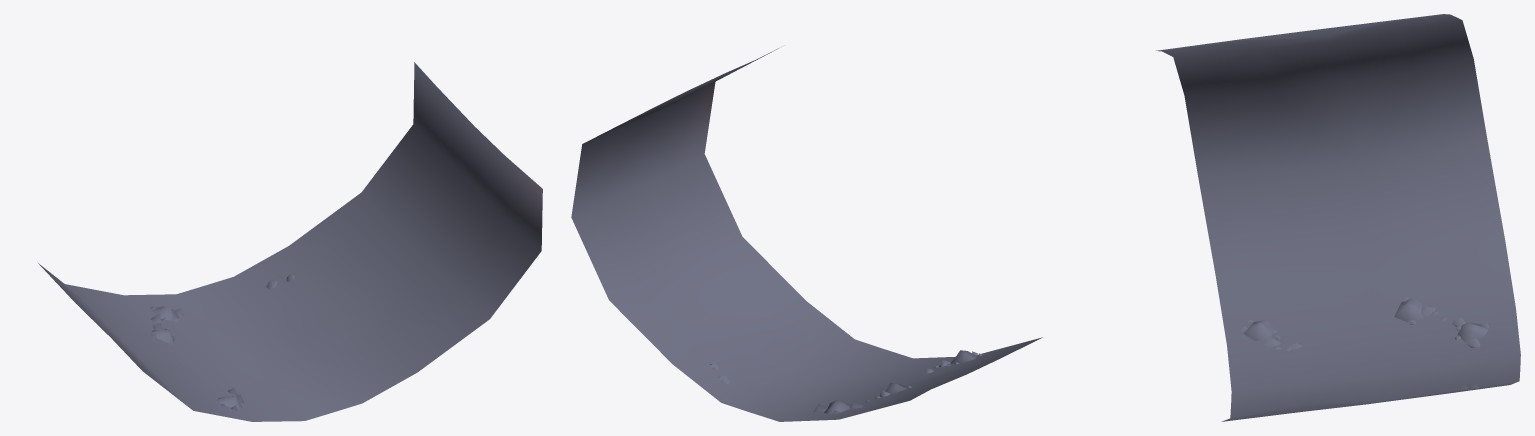
Rendered from Arctic_Luge_Tunnel_Right_15_Mid_C.glb.
3 views of the same model, side by side, from view 1: azimuth 30°, elevation 25°; view 2: azimuth 150°, elevation 25°; view 3: azimuth 270°, elevation 25° (orthographic). The views are drawn at different scales.
Parts seen in each view (by area): view 1: Arctic_Luge_Tunnel_Right_15_Mid_C; view 2: Arctic_Luge_Tunnel_Right_15_Mid_C; view 3: Arctic_Luge_Tunnel_Right_15_Mid_C.
Boxes of the visible parts, x1,y1,x2,y2 form: Arctic_Luge_Tunnel_Right_15_Mid_C: (38,62,542,421); Arctic_Luge_Tunnel_Right_15_Mid_C: (571,48,1042,421); Arctic_Luge_Tunnel_Right_15_Mid_C: (1156,14,1520,421).
Bounding box in the file's own units: 4.44 × 3.49 × 3.13.
